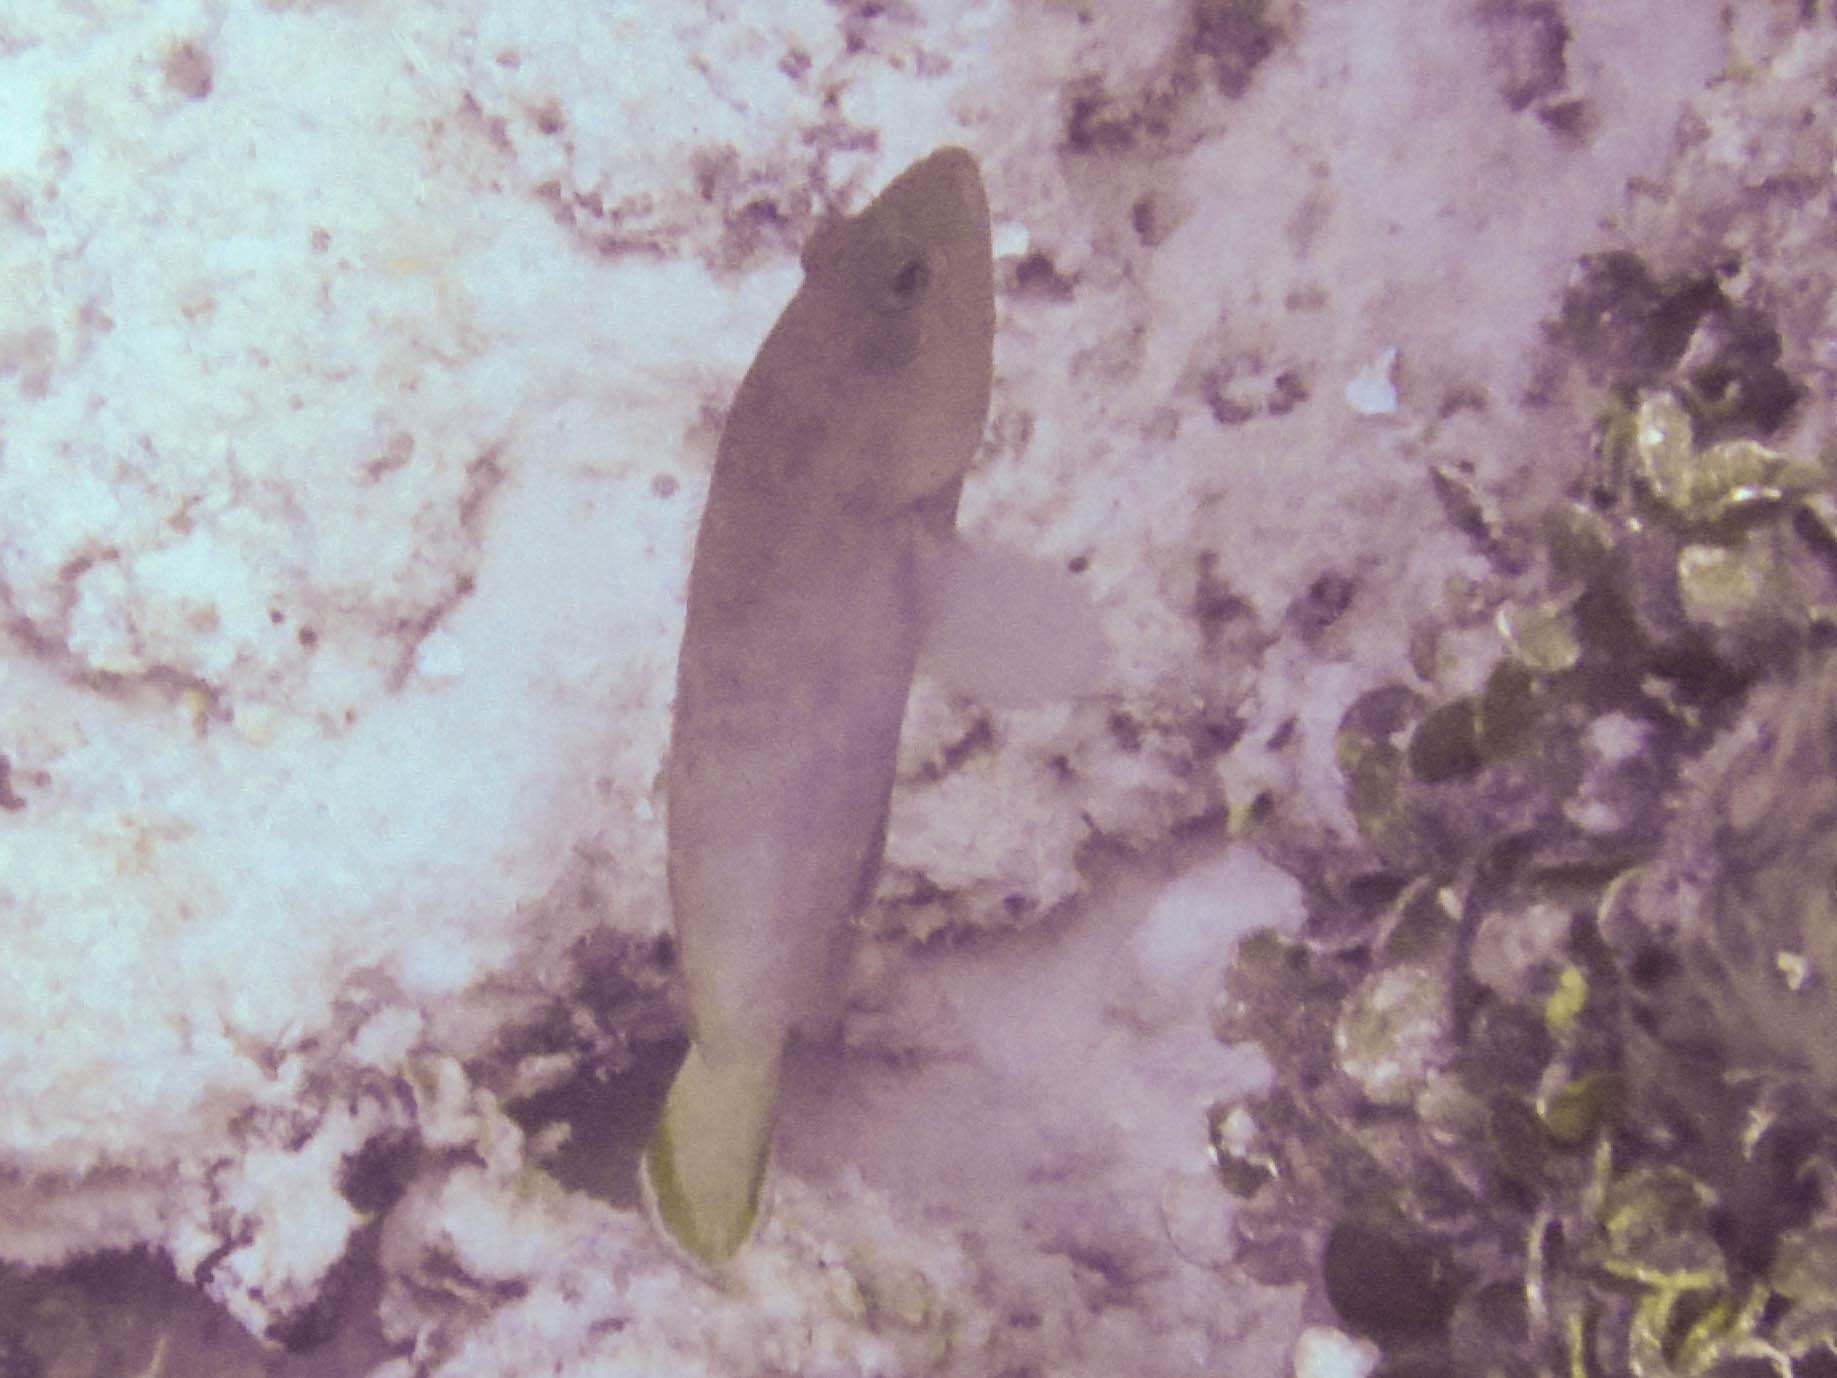Fish: (637, 140, 1118, 1280)
